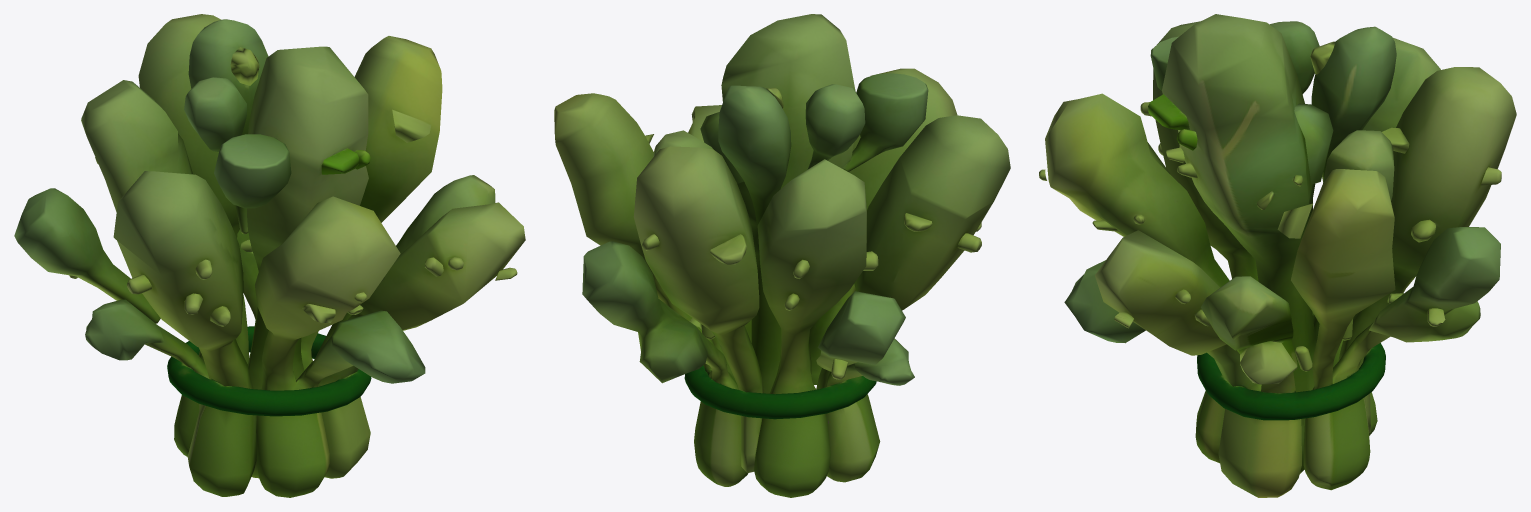
Rendered from veg.glb.
3 views of the same model, side by side, from view 1: azimuth 30°, elevation 25°; view 2: azimuth 150°, elevation 25°; view 3: azimuth 270°, elevation 25° (orthographic). The views are drawn at different scales.
Visible parts, largest first — view 1: tripo_node_565ed174-bd2c-449a-948e-c6287601dc98; view 2: tripo_node_565ed174-bd2c-449a-948e-c6287601dc98; view 3: tripo_node_565ed174-bd2c-449a-948e-c6287601dc98.
Boxes of the visible parts, bbox=[...] form: tripo_node_565ed174-bd2c-449a-948e-c6287601dc98: bbox=[14, 14, 525, 497]; tripo_node_565ed174-bd2c-449a-948e-c6287601dc98: bbox=[554, 14, 1010, 497]; tripo_node_565ed174-bd2c-449a-948e-c6287601dc98: bbox=[1039, 14, 1516, 497].
Size of the model in its own units: 0.9194 by 0.9995 by 0.9614.
Materials: 1 (1 with a texture image).
